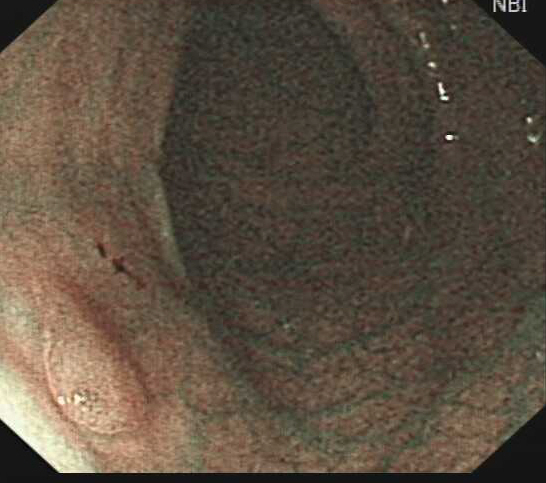adenoma: (32, 278, 150, 435)
